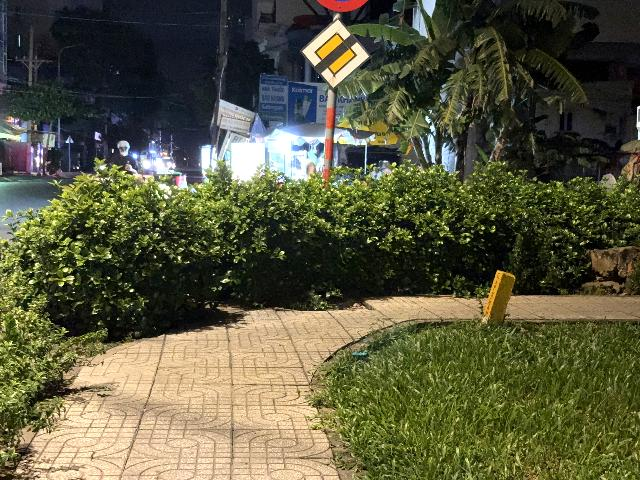het-duong-uu-tien: (299, 16, 372, 91)
